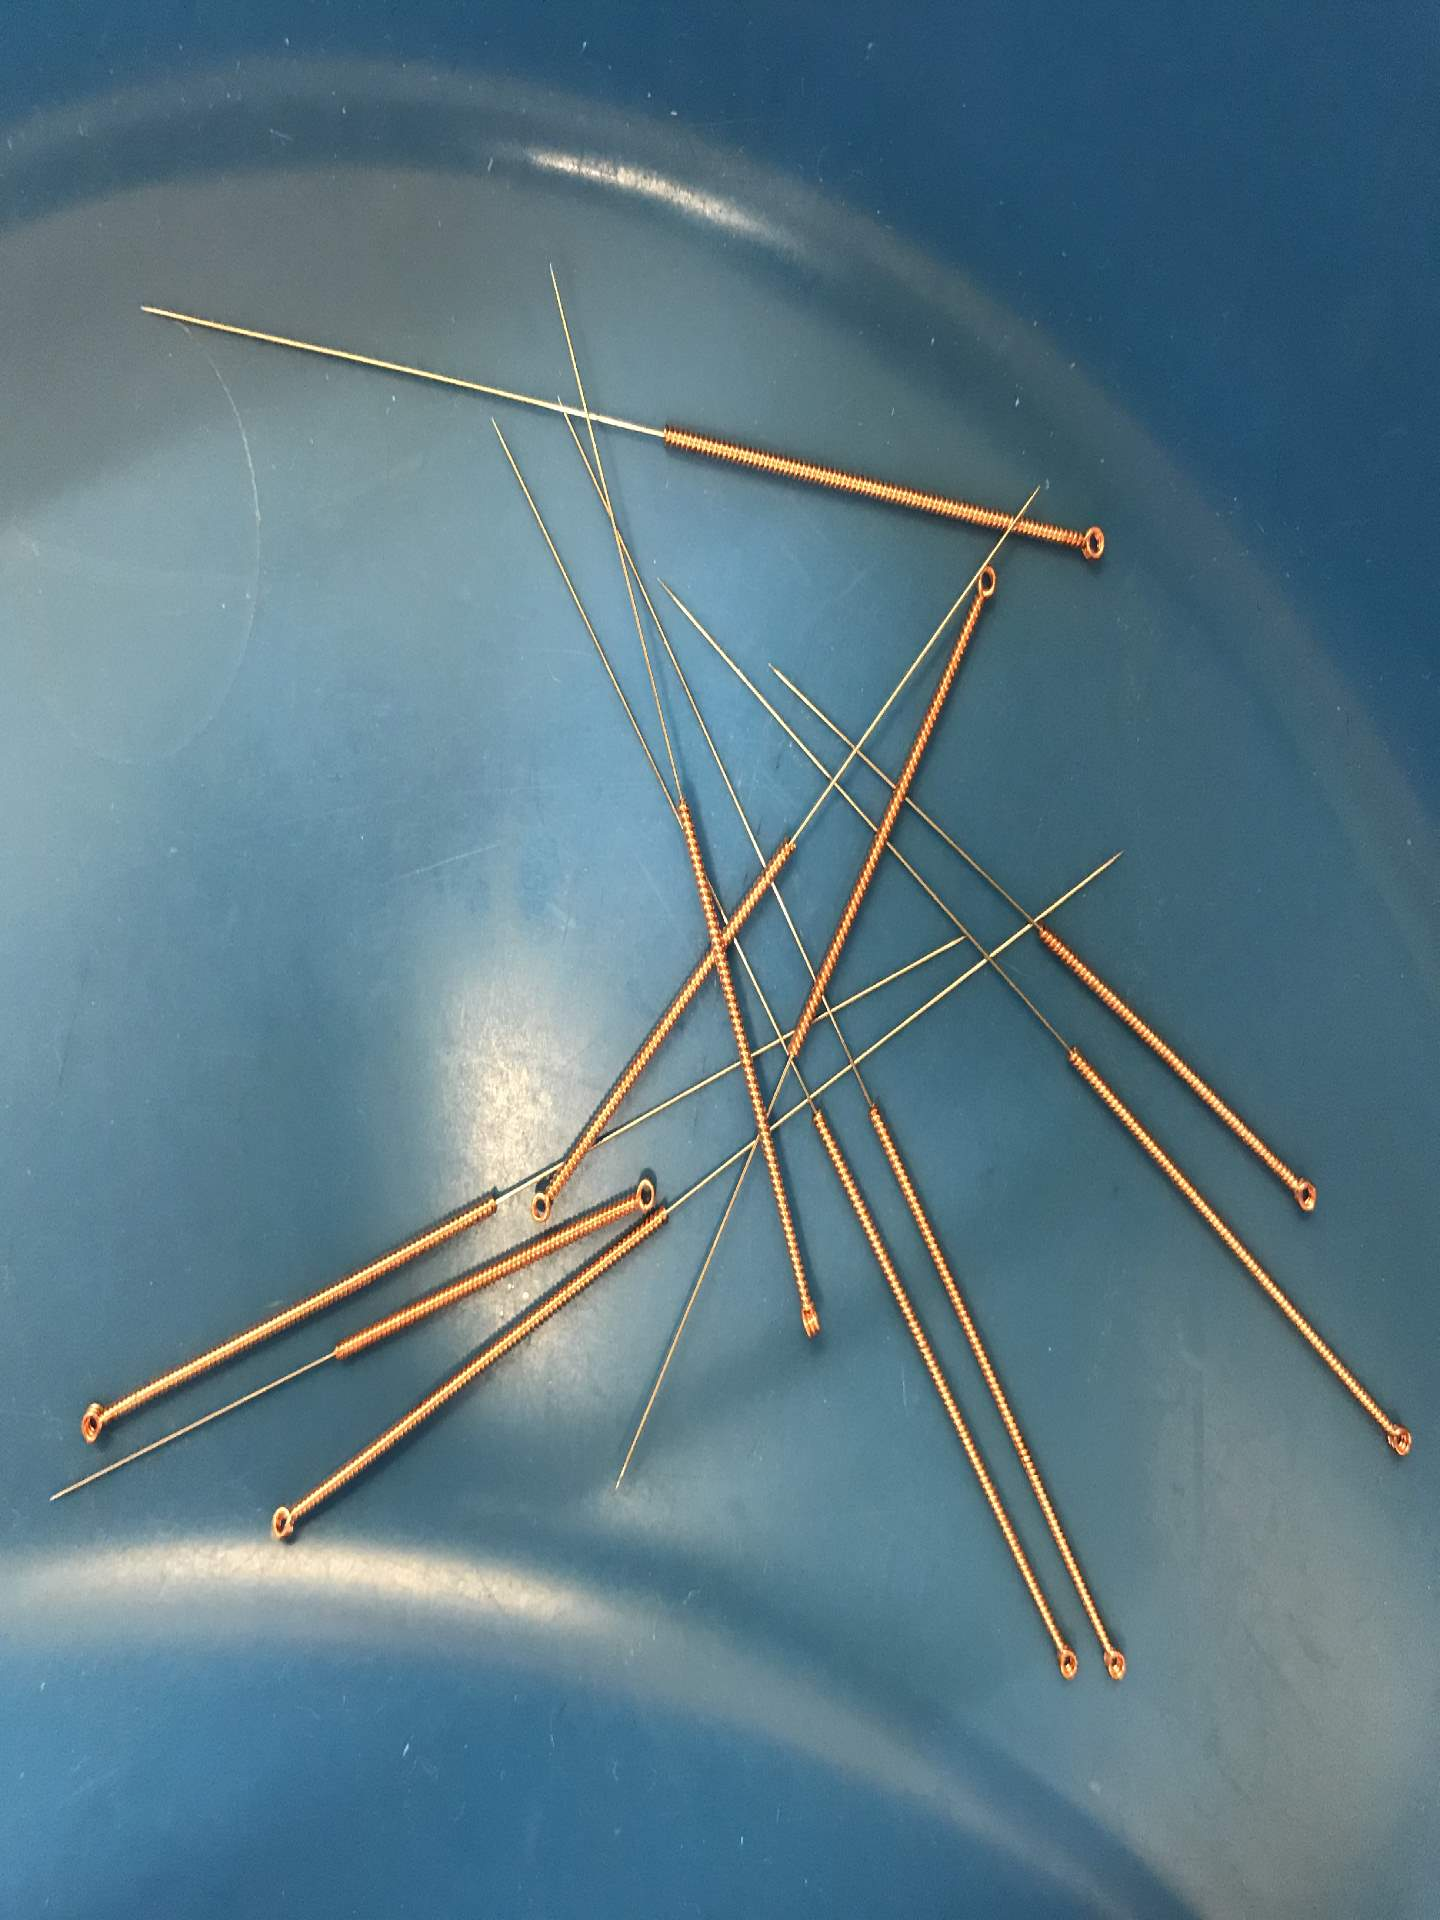needle: (253, 1489, 312, 1556), (65, 1389, 121, 1457), (1369, 1400, 1422, 1471), (1088, 1624, 1139, 1696), (1062, 509, 1119, 573), (1038, 1627, 1088, 1695), (961, 550, 1009, 618), (1278, 1160, 1328, 1222), (787, 1285, 833, 1350), (517, 1169, 566, 1228), (622, 1163, 661, 1222)
